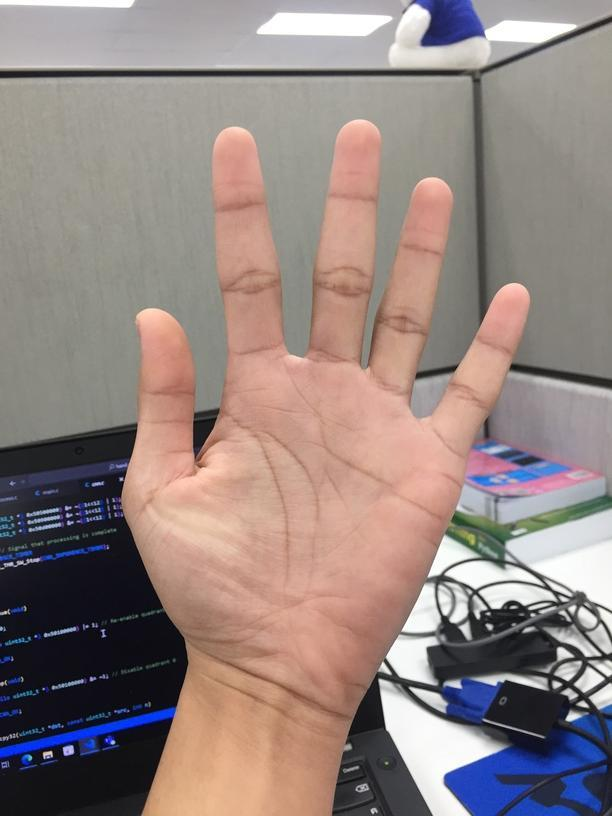hand: (119, 119, 535, 708)
